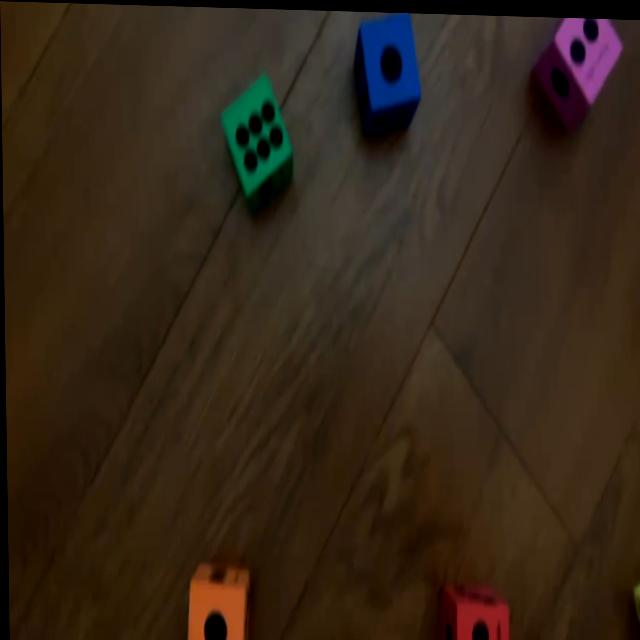blue_block: (354, 8, 420, 134)
red_block: (441, 579, 509, 640)
